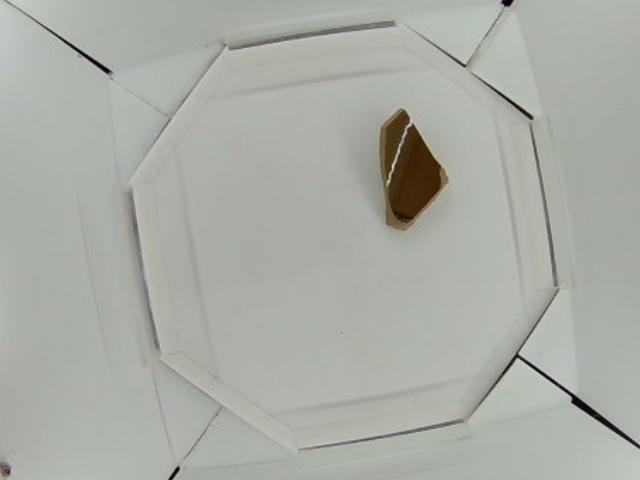China: (375, 107, 451, 230)
